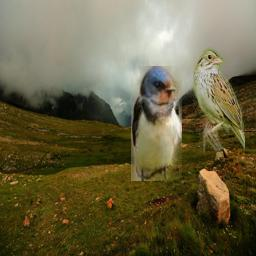Sparrow: (193, 47, 245, 153)
Swallow: (131, 66, 182, 181)
